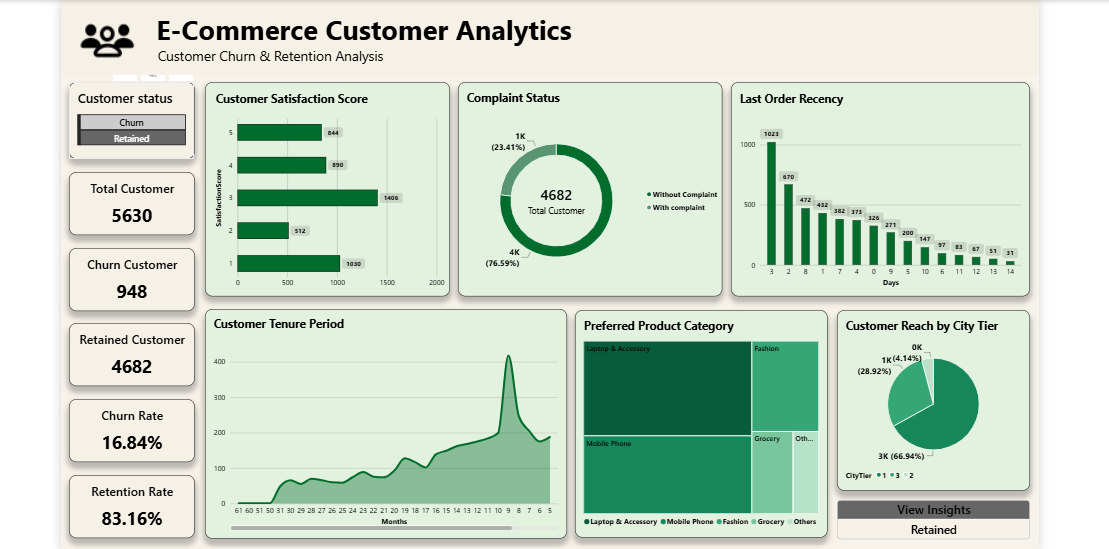

The page's visual inventory and layout, read from the dashboard file:
{"tool":"powerbi","page":{"name":"Dashboard","canvas":[1920,1080],"ordinal":0},"visuals":[{"type":"card","title":"Total Customer","fields":{"Values":["Table1.total customer"]},"box":[14.9,337.4,246.8,124],"z":0},{"type":"listSlicer","fields":{"Values":["Table1.Status"]},"box":[14.9,161.7,246.8,151.1],"z":1000},{"type":"columnChart","title":"Last Order Recency","fields":{"Category":["Table1.DaySinceLastOrder"],"Y":["Table1.vtotal customer"]},"box":[1314.9,161.7,587.2,421.3],"z":2000},{"type":"card","title":"Retained Customer","fields":{"Values":["Table1.Retain customer"]},"box":[14.9,634.7,246.8,124],"z":3000},{"type":"card","title":"Churn Rate","fields":{"Values":["Table1.churn rate"]},"box":[14.9,783.3,246.8,124],"z":4000},{"type":"card","title":"Churn Customer","fields":{"Values":["Table1.chur customer"]},"box":[14.9,486,246.8,124],"z":5000},{"type":"card","title":"Retention Rate","fields":{"Values":["Table1.Retain rate"]},"box":[14.9,931.9,246.8,124],"z":6000},{"type":"donutChart","title":"Complaint Status","fields":{"Category":["Table1.vcomplaint"],"Y":["Table1.vtotal customer"]},"box":[778.7,161.7,519.1,421.3],"z":7000},{"type":"barChart","title":"Customer Satisfaction Score","fields":{"Category":["Table1.SatisfactionScore"],"Y":["Table1.vtotal customer"]},"box":[283,161.7,480.9,421.3],"z":8000},{"type":"lineChart","title":"Customer Tenure Period","fields":{"Category":["Table1.Tenure"],"Y":["Table1.vtotal customer"]},"box":[283,606.4,710.6,451.1],"z":9000},{"type":"pieChart","title":"Customer Reach by City Tier","fields":{"Category":["Table1.CityTier"],"Y":["Table1.vtotal customer"]},"box":[1523.4,608.5,378.7,355.3],"z":10000},{"type":"treemap","title":"Preferred Product Category","fields":{"Group":["Table1.PreferedOrderCat"],"Values":["Table1.vtotal customer"]},"box":[1008.5,608.5,495.7,446.8],"z":11000},{"type":"cardVisual","title":"View Insights","fields":{"Data":["Min(Table1.Status)"]},"box":[1523.4,980.9,378.7,76.6],"z":12000},{"type":"textbox","title":"         E-Commerce Customer Analytics","box":[0,0,1919.1,146.8],"z":13000},{"type":"image","box":[32.5,0,115,147.5],"z":14000}]}

Visuals, with their boxes on the page's 1920x1080 design canvas (x1, y1, x2, y2). These are canvas units, not pixel positions in the 1109x549 screenshot, which may show the page scaled, cropped or inside an application window:
"Total Customer" card: [left=15, top=337, right=262, bottom=461]
listSlicer - Table1.Status: [left=15, top=162, right=262, bottom=313]
"Last Order Recency" columnChart: [left=1315, top=162, right=1902, bottom=583]
"Retained Customer" card: [left=15, top=635, right=262, bottom=759]
"Churn Rate" card: [left=15, top=783, right=262, bottom=907]
"Churn Customer" card: [left=15, top=486, right=262, bottom=610]
"Retention Rate" card: [left=15, top=932, right=262, bottom=1056]
"Complaint Status" donutChart: [left=779, top=162, right=1298, bottom=583]
"Customer Satisfaction Score" barChart: [left=283, top=162, right=764, bottom=583]
"Customer Tenure Period" lineChart: [left=283, top=606, right=994, bottom=1058]
"Customer Reach by City Tier" pieChart: [left=1523, top=608, right=1902, bottom=964]
"Preferred Product Category" treemap: [left=1008, top=608, right=1504, bottom=1055]
"View Insights" cardVisual: [left=1523, top=981, right=1902, bottom=1058]
"         E-Commerce Customer Analytics" textbox: [left=0, top=0, right=1919, bottom=147]
image: [left=32, top=0, right=148, bottom=148]
